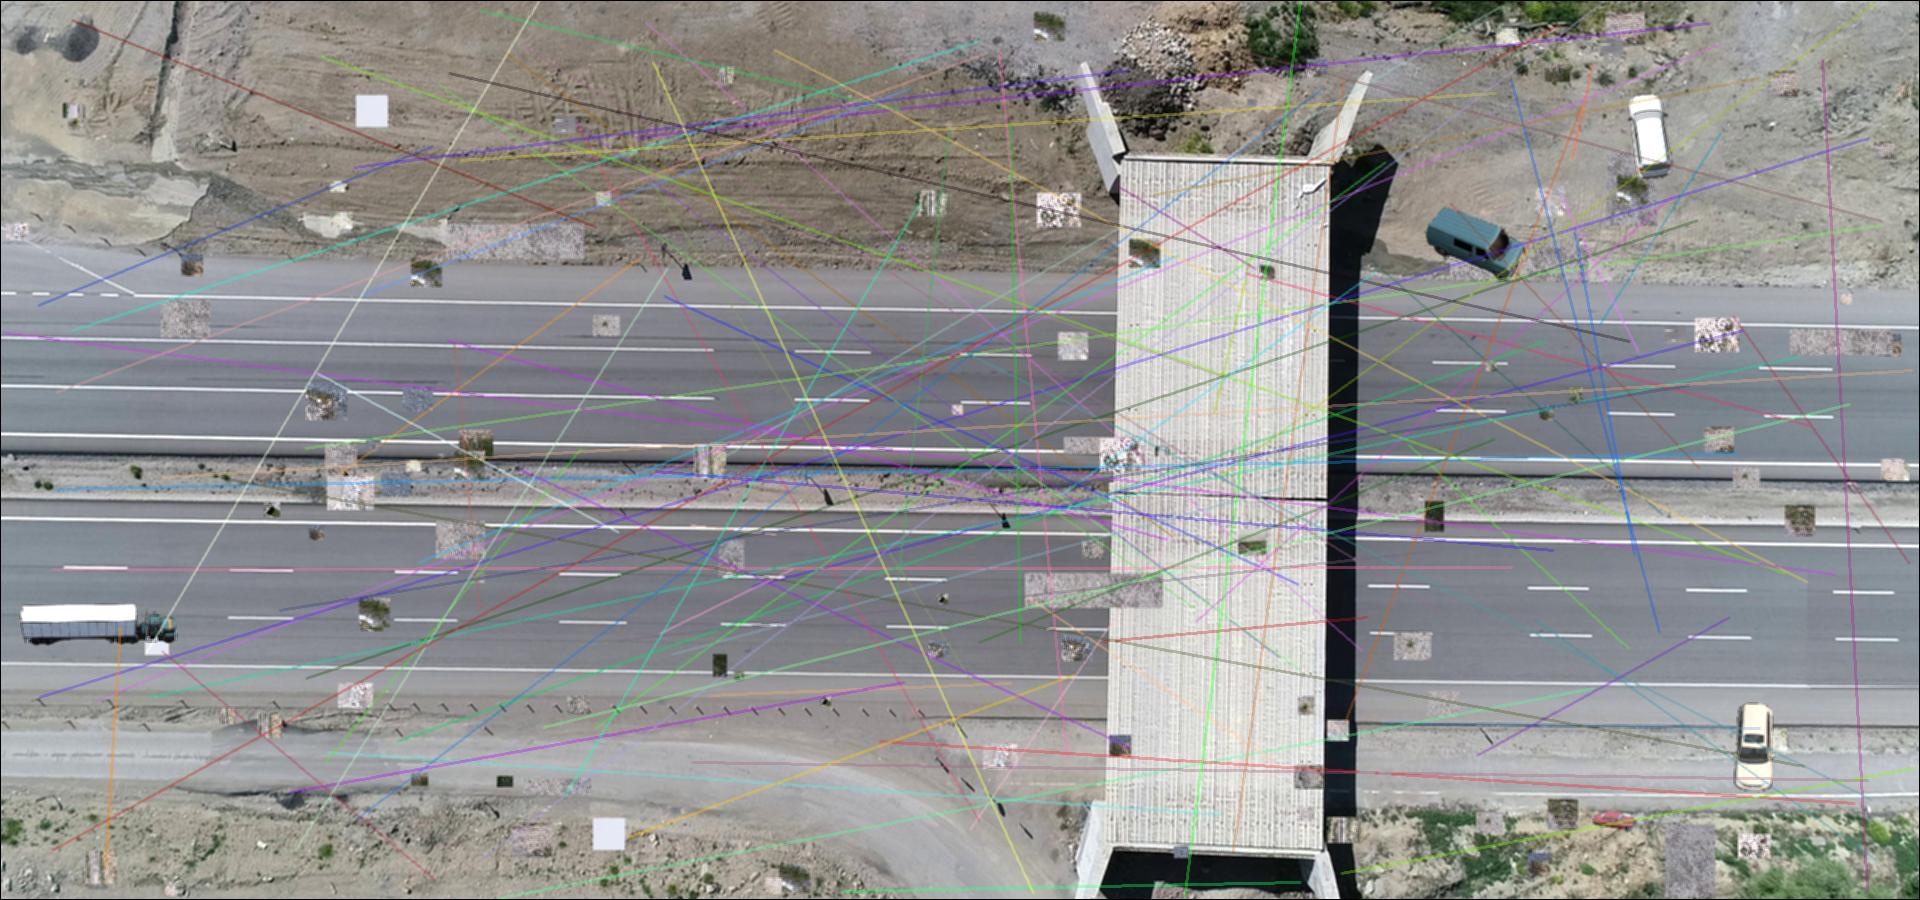arac: (1425, 204, 1524, 282), (18, 602, 178, 647), (1731, 703, 1778, 792), (1629, 94, 1673, 181), (1591, 811, 1636, 831)
